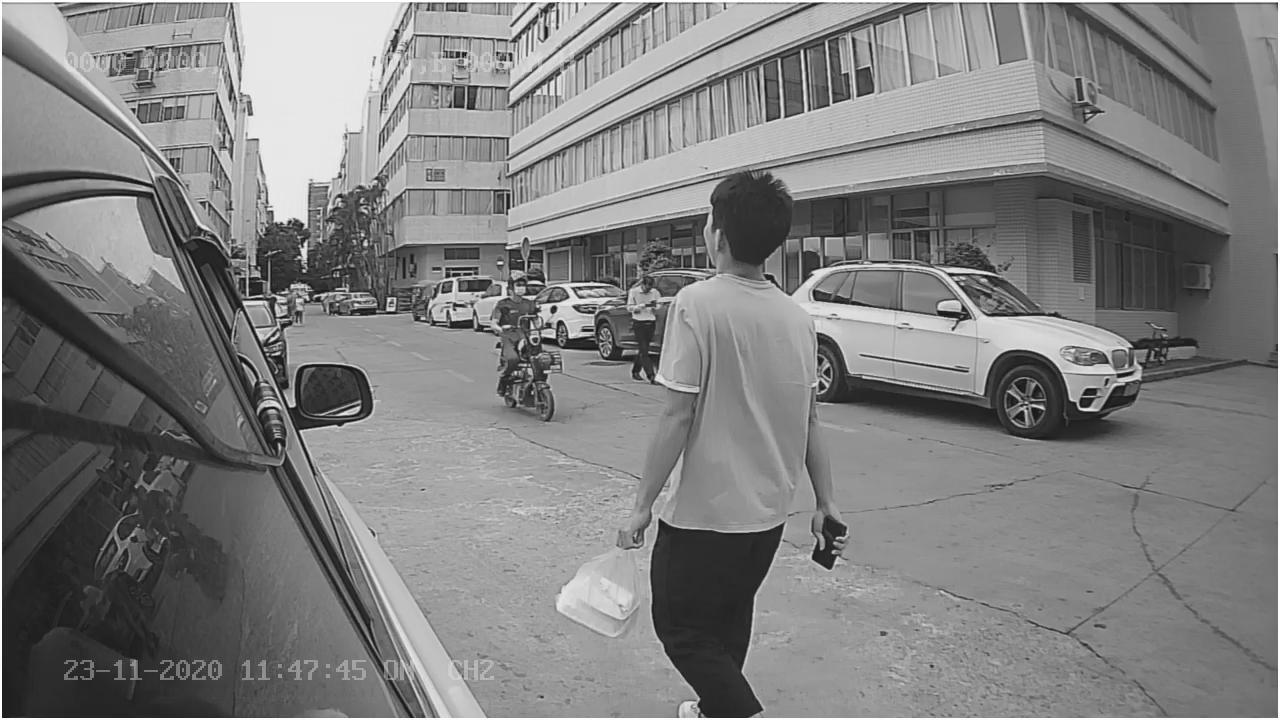person: (491, 256, 546, 328)
